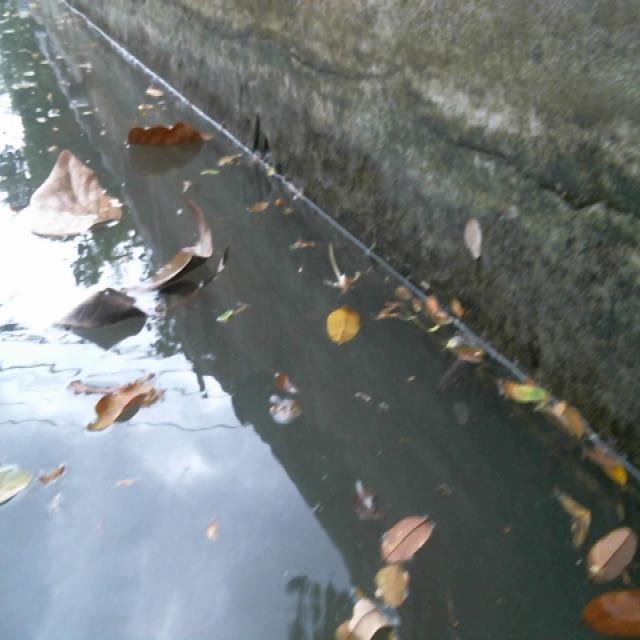Big-leaf: (58, 204, 234, 341), (25, 145, 118, 239), (69, 377, 175, 439), (129, 120, 219, 152)
Small-leaf: (551, 395, 629, 485), (382, 503, 438, 573), (556, 482, 602, 561), (333, 589, 403, 640), (586, 517, 640, 579), (264, 368, 308, 442), (584, 585, 640, 639), (360, 560, 417, 611), (324, 304, 374, 362), (0, 462, 32, 514), (500, 374, 548, 404)
